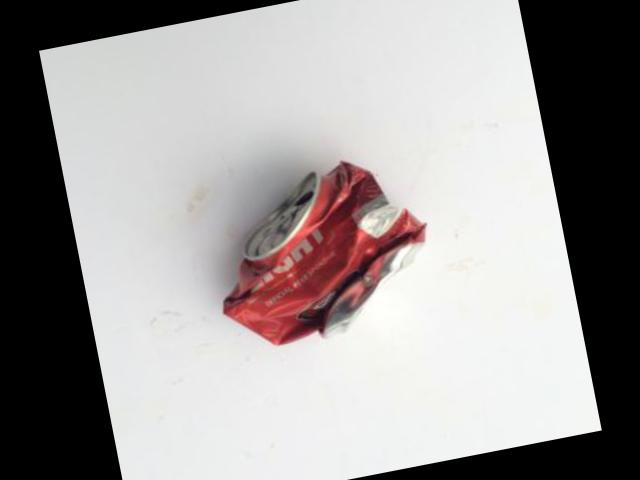metal: (222, 163, 422, 345)
